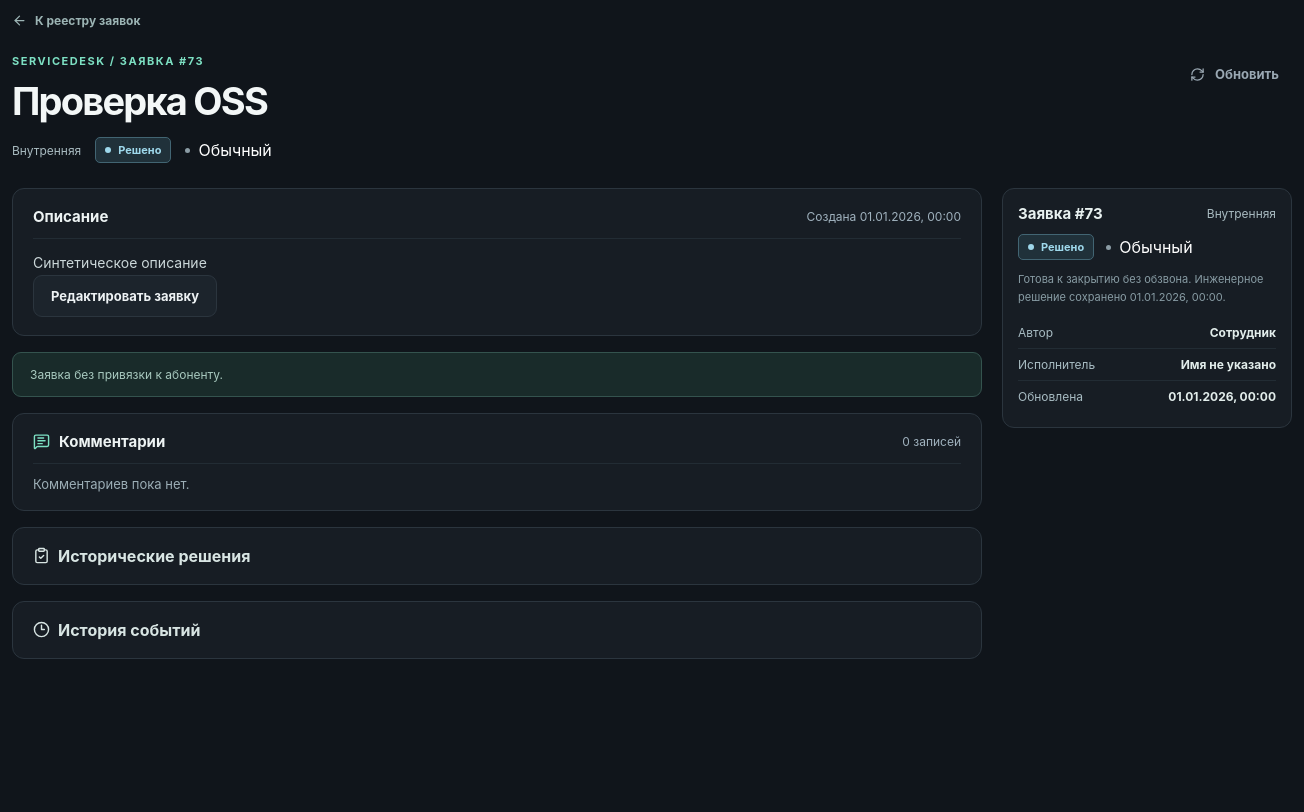
shows a resolved verdict without active engineer actions to a ticket editor
expect the text "Готова к закрытию без обзвона" is shown: met, box [1018, 272, 1194, 286]
What coordinates should you click on to do the following:
click the heading "Исторические решения"
I would click on:
 (142, 556)
Its box is [33, 546, 250, 566].
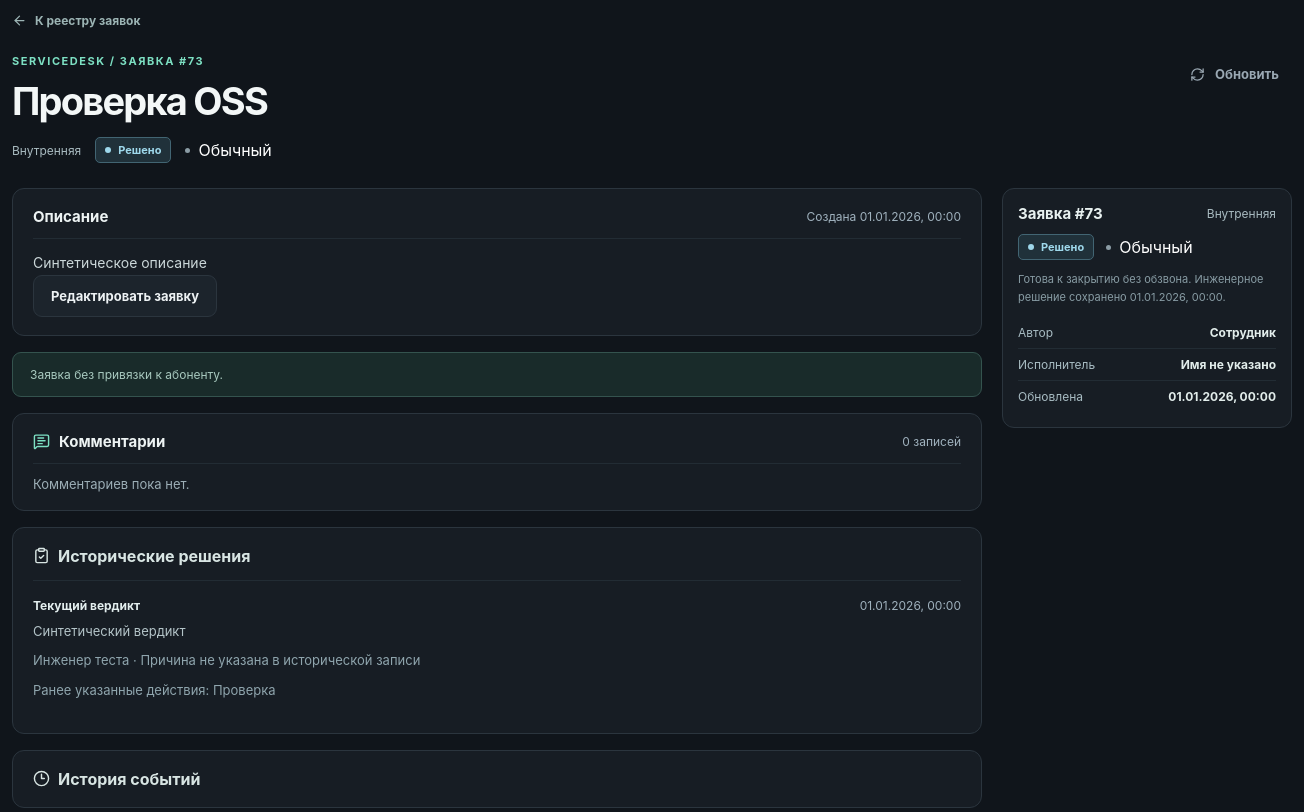
expect the text "Синтетический вердикт" is shown: met, box [33, 623, 185, 639]
expect the text "Инженер теста · Причина не указана в исторической записи" is shown: met, box [33, 652, 420, 668]
expect the text "Ранее указанные действия: Проверка" is shown: met, box [33, 682, 276, 698]
